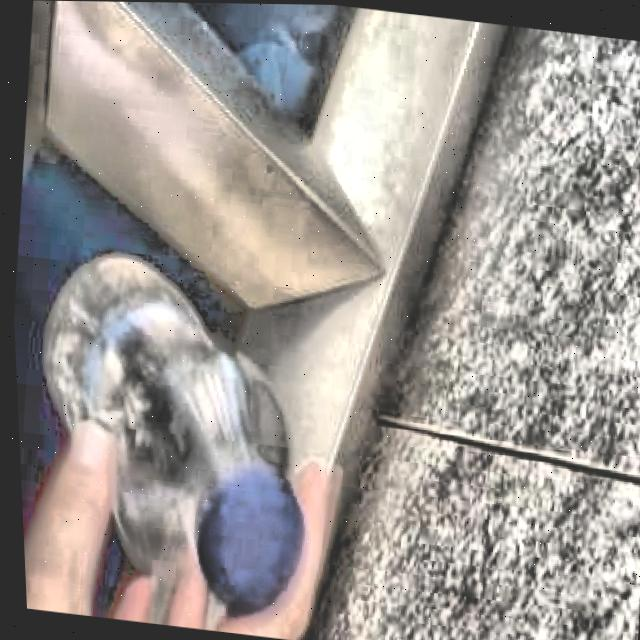plastic: (38, 254, 297, 624)
